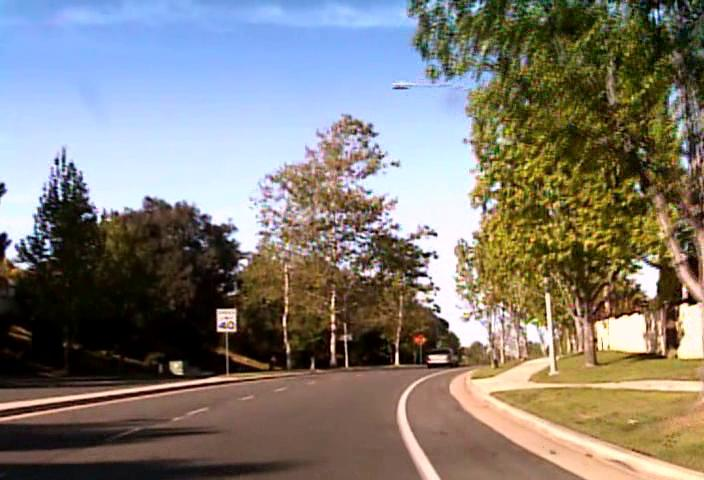speedLimit40: (215, 308, 236, 332)
